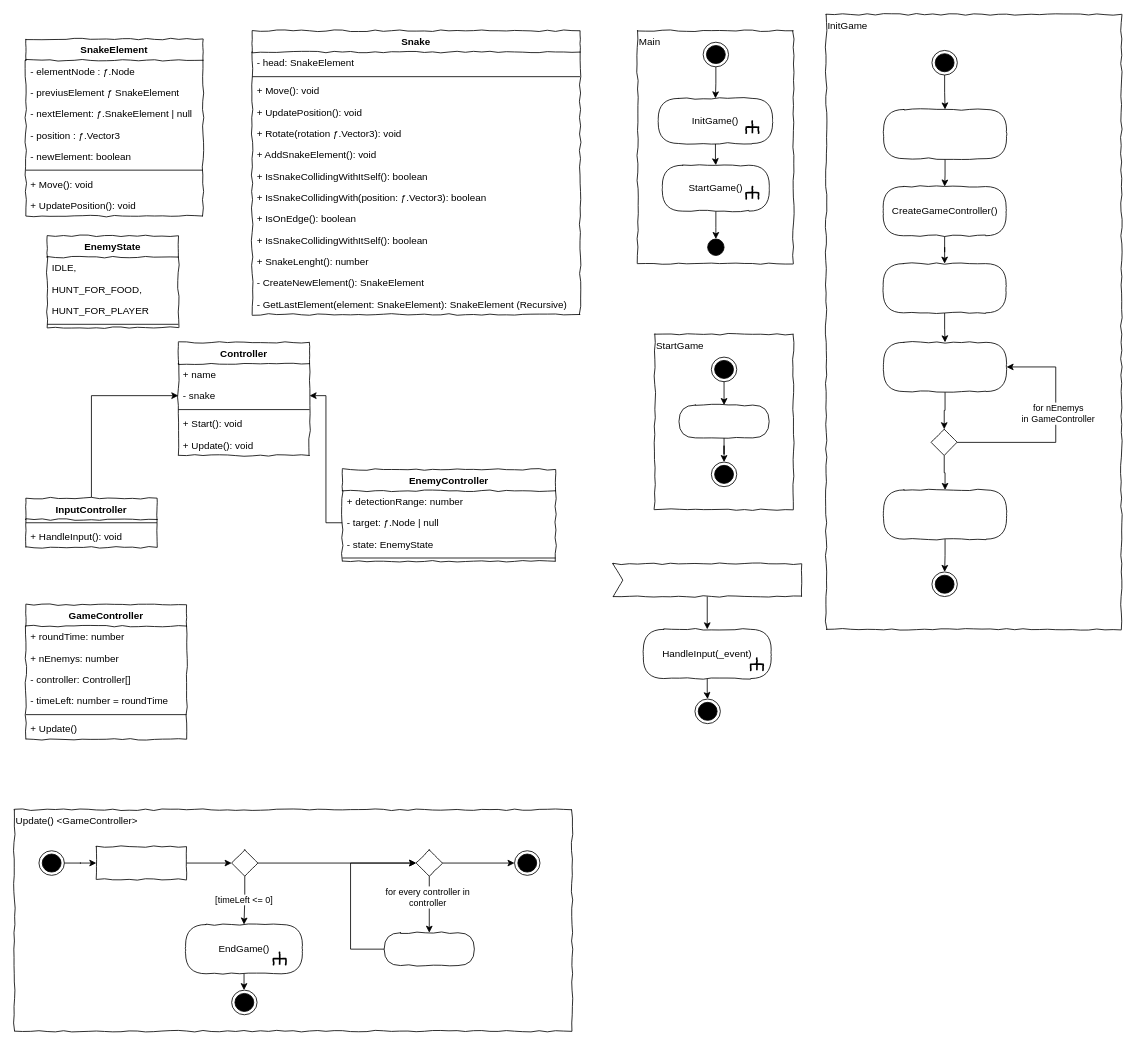
The diagram is 1136 pixels wide and 1046 high, and some of its shapes have lost their labels. Each missing label, with the centre of its shape:
"AddEventListener for input" goes at point (945, 514).
"controller.Update()" goes at point (428, 949).
"CreateEnemySnake with Controller and add it to the GameController" goes at point (945, 367).
"CreateGameField()" goes at point (945, 134).
"CreatePlayerSnake with Controller and add it to the GameController" goes at point (944, 288).
"KeyPressed(_event:KeyboadEvent)" goes at point (707, 580).
"StartLoop -> Update()" goes at point (723, 421).
"time -= deltaTime" goes at point (141, 862).
